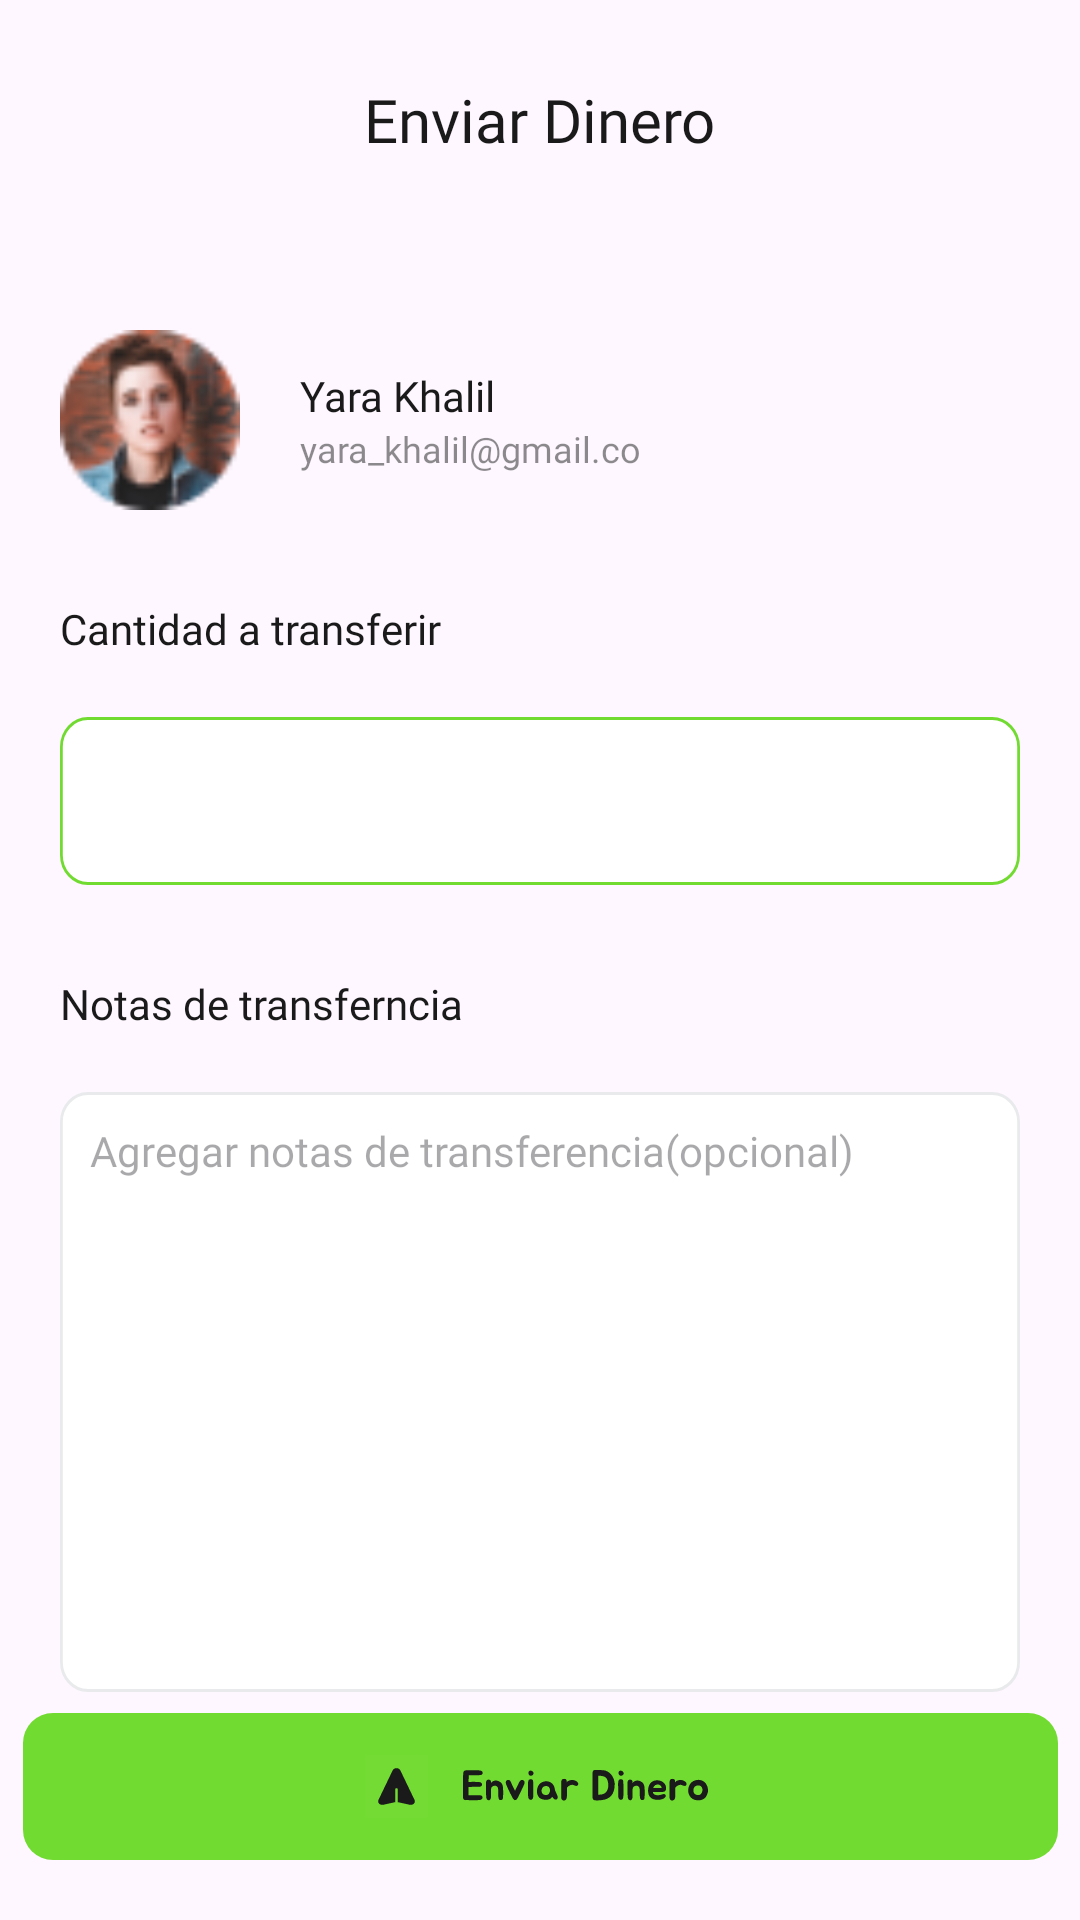

Screen size 1080*1920. Icon name, then its center in pixels as [x,y]:
profile: [150,420]
